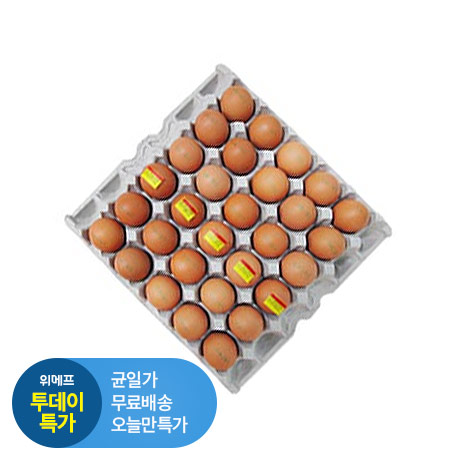egg: (91, 88, 375, 371)
